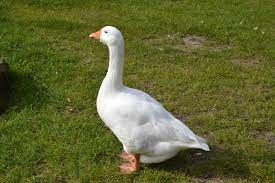Vịt/Duck: (68, 14, 219, 179)
